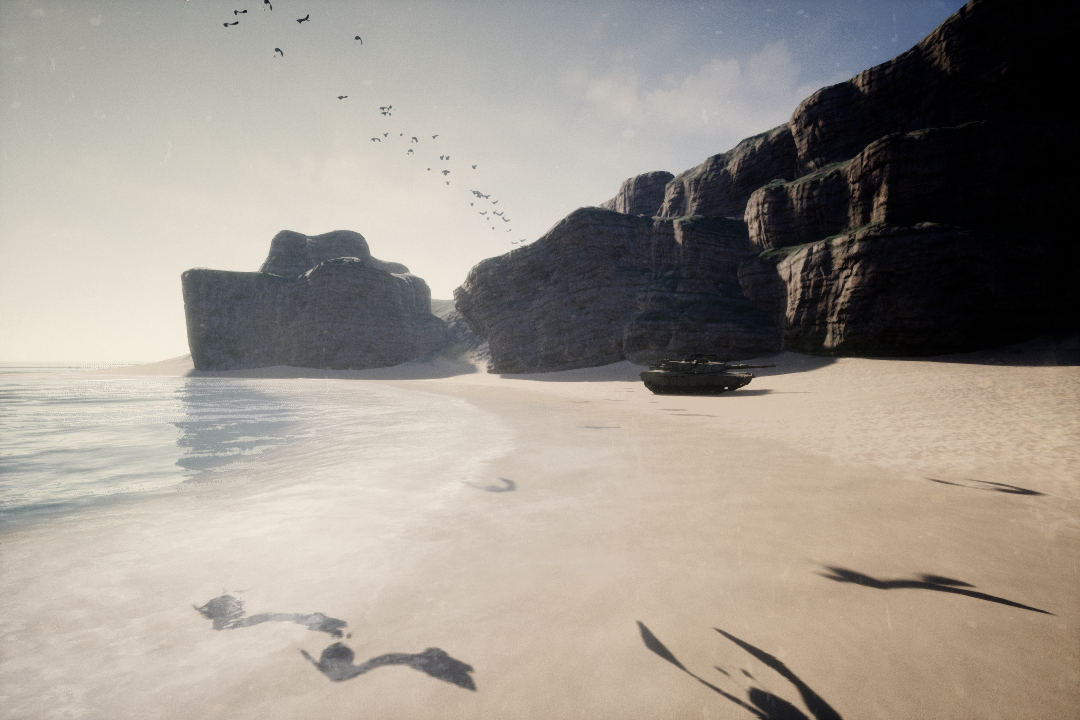tank: (638, 359, 779, 397)
